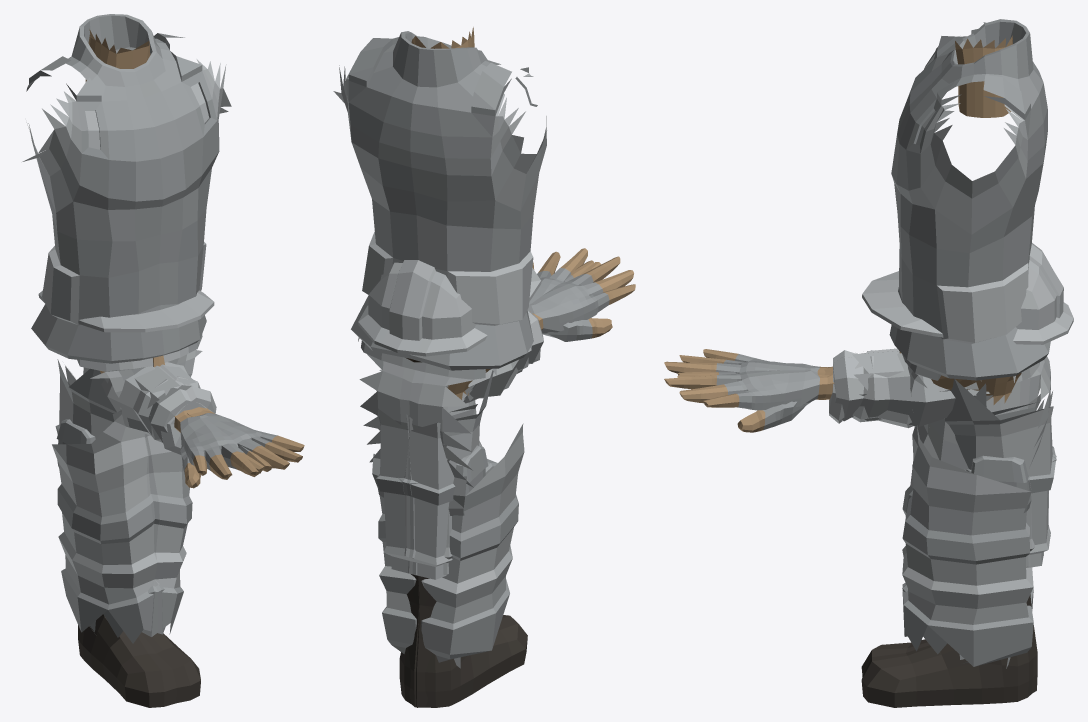
Rendered from soldier_winter.glb.
3 renders of one model, left to right at view 1: azimuth 30°, elevation 25°; view 2: azimuth 150°, elevation 25°; view 3: azimuth 270°, elevation 25°, orthographic. The views are drawn at different scales.
Visible parts, largest first — view 1: torso, thighL, foreR, shinR, thighR, foreL, shinL, head, upperR; view 2: torso, thighL, shinR, head, shinL, foreR, thighR, foreL; view 3: torso, thighR, shinL, foreL, shinR, head, foreR, thighL, upperL.
Boxes of the visible parts, x1=… form: torso: x1=22, y1=14, x2=231, y2=412; thighL: x1=52, y1=407, x2=165, y2=643; foreR: x1=101, y1=366, x2=273, y2=479; shinR: x1=56, y1=365, x2=176, y2=707; thighR: x1=89, y1=434, x2=192, y2=637; foreL: x1=127, y1=362, x2=304, y2=488; shinL: x1=55, y1=359, x2=200, y2=703; head: x1=38, y1=290, x2=214, y2=373; upperR: x1=104, y1=366, x2=192, y2=415; torso: x1=333, y1=27, x2=546, y2=487; thighL: x1=421, y1=385, x2=524, y2=662; shinR: x1=376, y1=404, x2=527, y2=707; head: x1=358, y1=260, x2=541, y2=399; shinL: x1=377, y1=370, x2=493, y2=707; foreR: x1=463, y1=256, x2=635, y2=403; thighR: x1=372, y1=369, x2=497, y2=668; foreL: x1=465, y1=248, x2=612, y2=400; torso: x1=889, y1=19, x2=1050, y2=465; thighR: x1=902, y1=425, x2=1033, y2=666; shinL: x1=861, y1=383, x2=1056, y2=707; foreL: x1=664, y1=353, x2=989, y2=426; shinR: x1=861, y1=379, x2=1056, y2=693; head: x1=862, y1=243, x2=1073, y2=404; foreR: x1=664, y1=349, x2=992, y2=432; thighL: x1=902, y1=374, x2=1043, y2=668; upperL: x1=852, y1=351, x2=981, y2=395.
Bounding box in the file's own units: 0.3766 × 1.1 × 0.6166.
